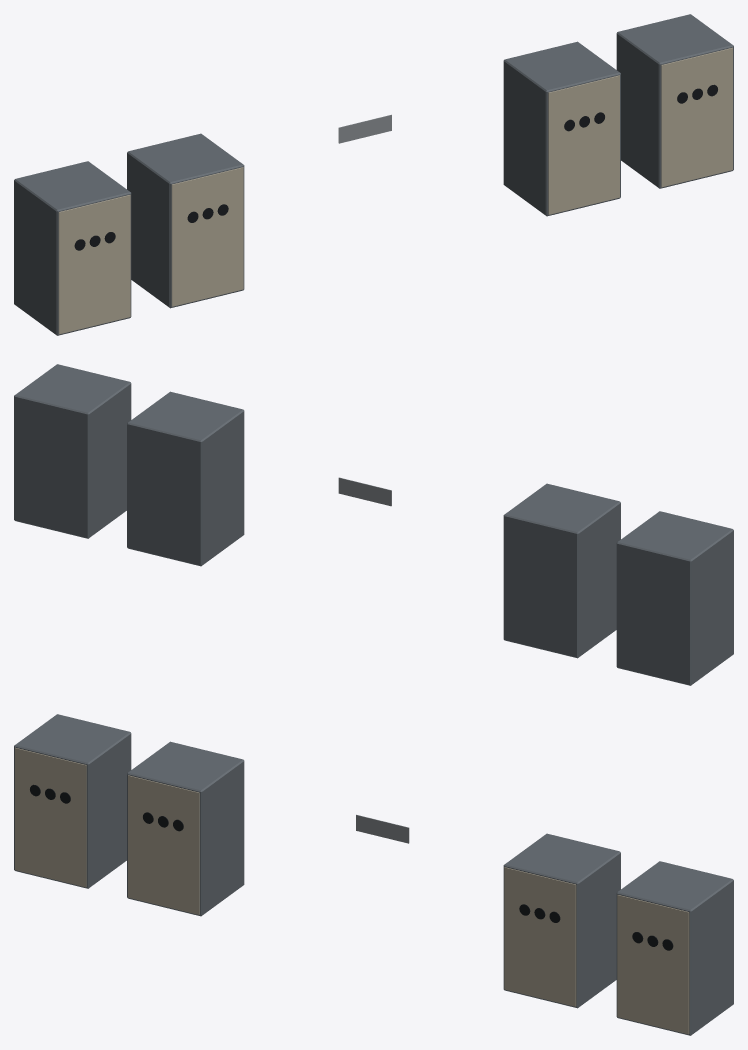
The model's file is breaker.glb.
The picture shows the model from 3 angles, top to bottom: view 1: azimuth 30°, elevation 25°; view 2: azimuth 150°, elevation 25°; view 3: azimuth 330°, elevation 25°; orthographic projection.
Visible parts, largest first — view 1: breaker; view 2: breaker; view 3: breaker.
Boxes of the visible parts, box(x1,y1,x2,y2) form: breaker: box(14, 14, 733, 335); breaker: box(14, 364, 733, 685); breaker: box(14, 714, 733, 1035).
Bounding box in the file's own units: 18 × 3.2 × 2.04.
